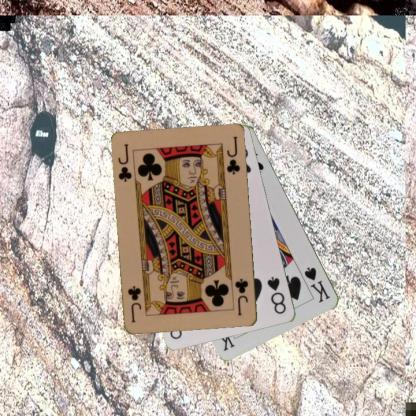8s: (264, 274, 288, 316)
Jc: (116, 141, 134, 183), (233, 276, 250, 317)
Ks: (302, 264, 332, 305)
